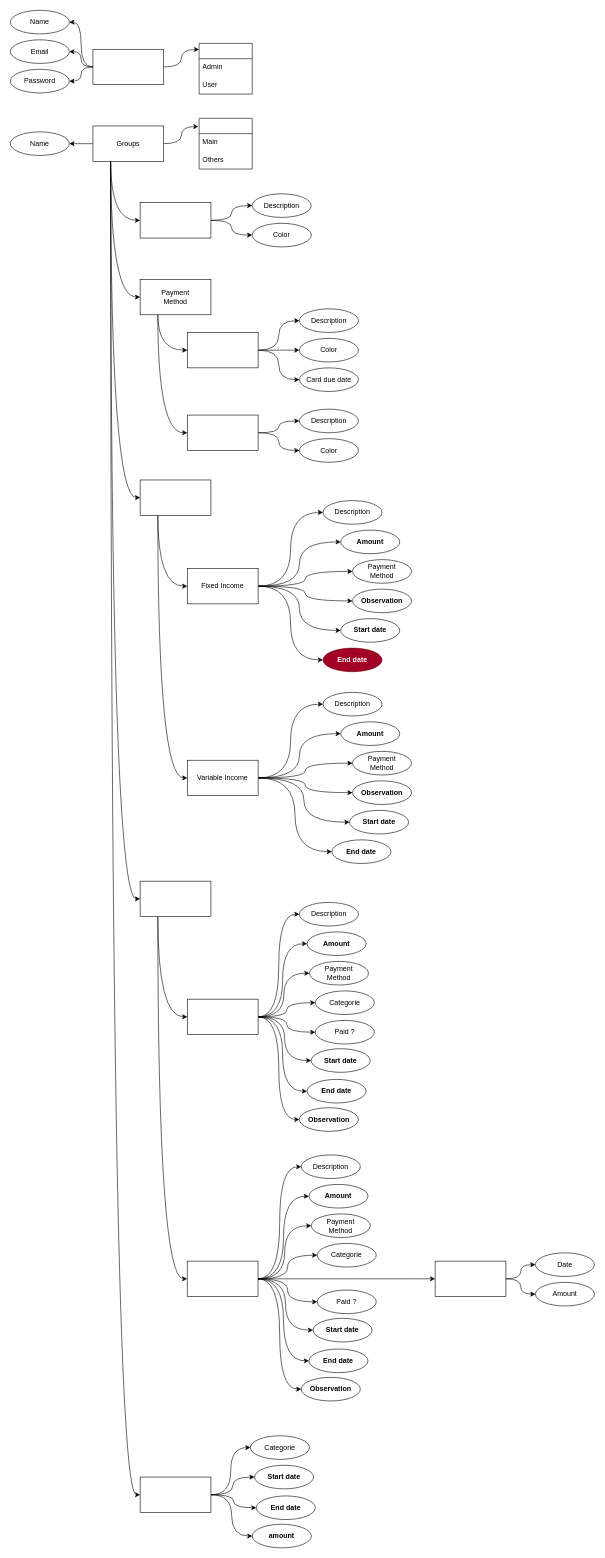
Some shapes in this 605 by 1558 pixel diagram are drawn without their labels. The box of each missing label's shape, as (x1, y1, x2, y2) in pixels:
Card: (187, 332, 258, 368)
Expenses: (140, 881, 211, 917)
Financial Categories: (140, 202, 211, 238)
Fixed Expenses: (187, 999, 258, 1035)
Goal: (140, 1476, 211, 1512)
Income: (140, 479, 211, 515)
Installment: (435, 1261, 506, 1297)
Other: (187, 414, 258, 450)
Roles: (199, 43, 252, 94)
Types: (199, 118, 252, 169)
Users: (92, 49, 164, 85)
Variable Expenses: (187, 1261, 258, 1297)
